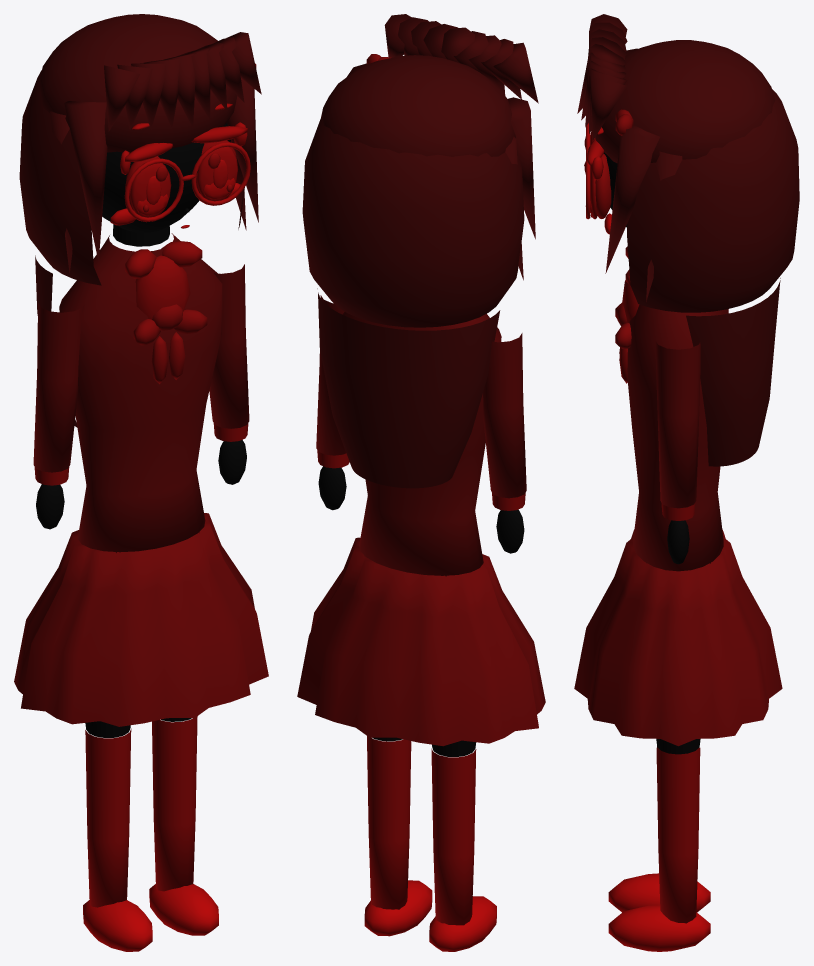
The model's file is girl_ayani.glb.
3 views of the same model, side by side, from view 1: azimuth 30°, elevation 25°; view 2: azimuth 150°, elevation 25°; view 3: azimuth 270°, elevation 25° (orthographic). The views are drawn at different scales.
Parts seen in each view (by area): view 1: body, legl, legr, arml, armr; view 2: body, legl, legr, arml, armr; view 3: body, legr, armr, legl.
Boxes of the visible parts, x1,y1,x2,y2 form: body: (14, 14, 268, 726); legl: (83, 721, 152, 951); legr: (149, 716, 218, 935); arml: (33, 303, 84, 529); armr: (209, 264, 249, 484); body: (297, 14, 545, 746); legl: (429, 740, 496, 951); legr: (364, 736, 432, 936); arml: (483, 333, 526, 553); armr: (316, 295, 349, 510); body: (574, 14, 799, 746); legr: (608, 738, 710, 951); armr: (655, 340, 700, 564); legl: (608, 747, 710, 912).
Size of the model in its own units: 0.7276 by 2.61 by 0.6022.
